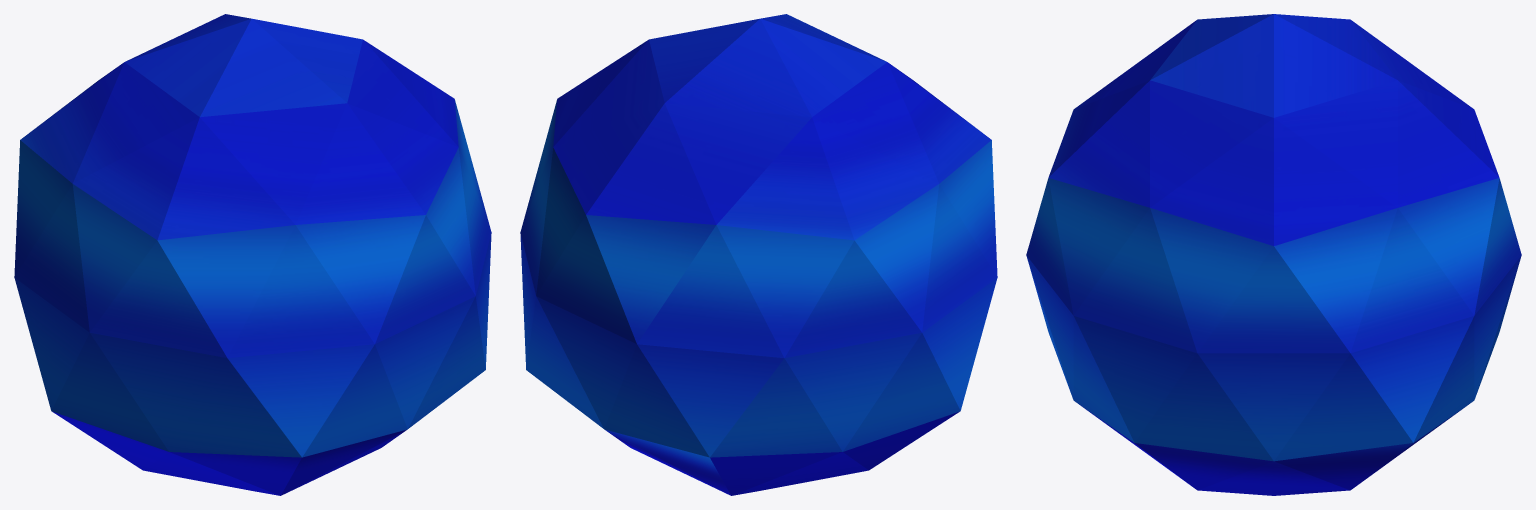
The model's file is neptune.fbx.
3 views of the same model, side by side, from view 1: azimuth 30°, elevation 25°; view 2: azimuth 150°, elevation 25°; view 3: azimuth 270°, elevation 25° (orthographic).
Parts seen in each view (by area): view 1: pSolid1; view 2: pSolid1; view 3: pSolid1.
Boxes of the visible parts, box(x1,y1,x2,y2) form: pSolid1: box(14, 14, 491, 495); pSolid1: box(520, 14, 997, 495); pSolid1: box(1026, 14, 1521, 495).
Bounding box in the file's own units: 16.52 × 18.53 × 17.3.
